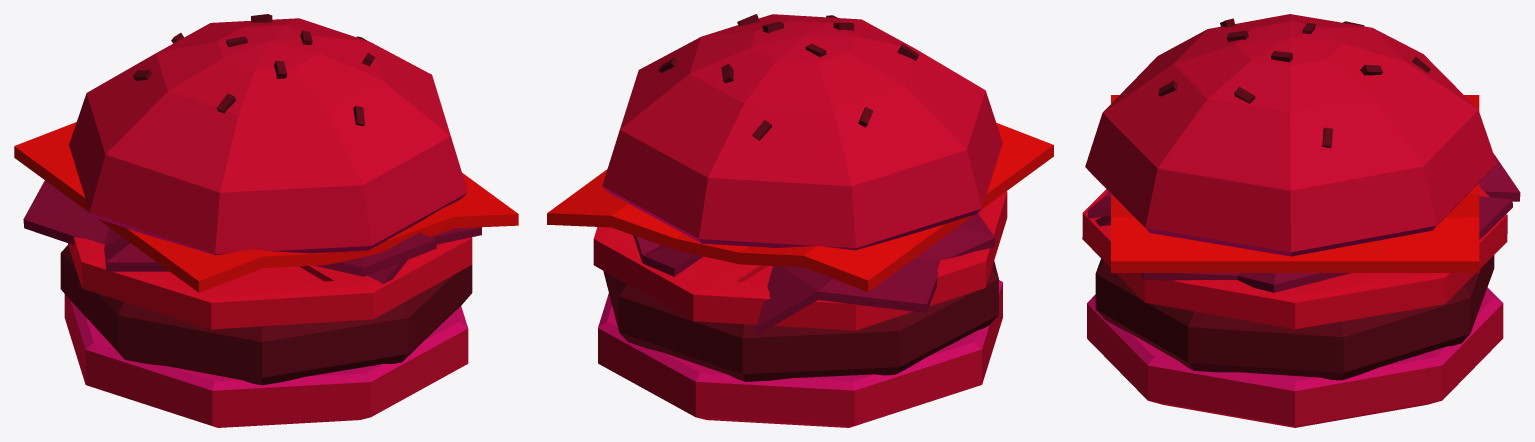
File: Hamburger_01.fbx
3 renders of one model, left to right at view 1: azimuth 30°, elevation 25°; view 2: azimuth 150°, elevation 25°; view 3: azimuth 270°, elevation 25°, orthographic.
Parts seen in each view (by area): view 1: Hamburger_01; view 2: Hamburger_01; view 3: Hamburger_01.
Part boxes in pixels (left/top/right/bottom): Hamburger_01: left=14, top=14, right=518, bottom=427; Hamburger_01: left=547, top=14, right=1053, bottom=427; Hamburger_01: left=1082, top=14, right=1520, bottom=427.
Bounding box in the file's own units: 6.47 × 5.25 × 6.67.
